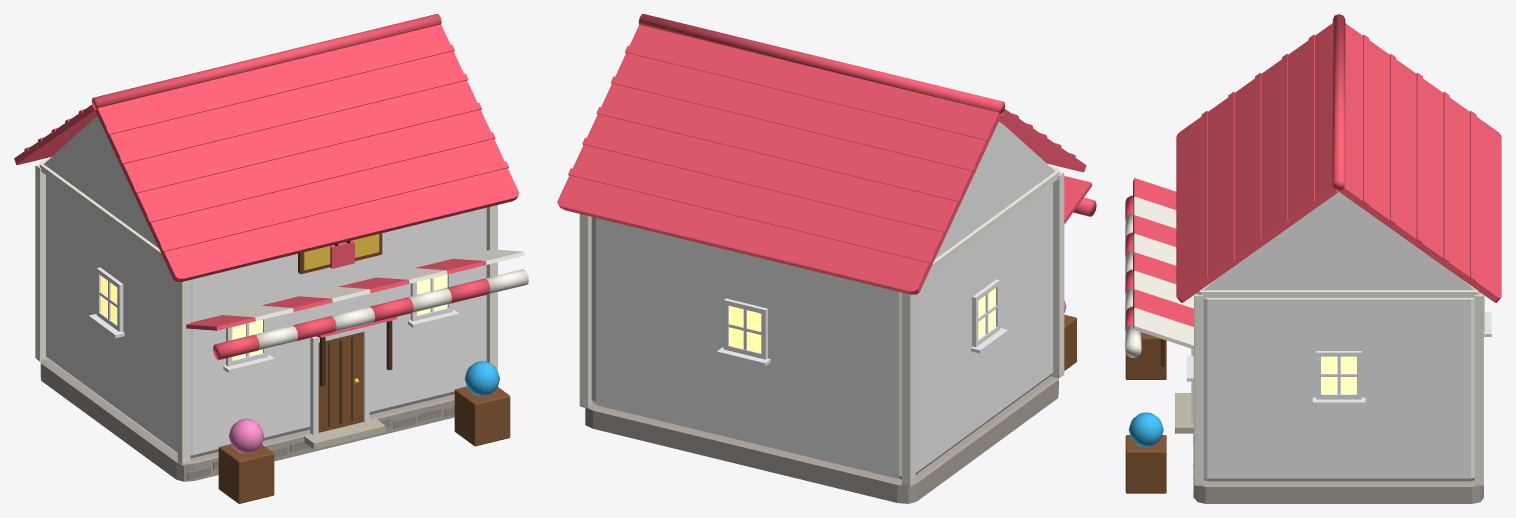
File: obchod.glb
The picture shows the model from 3 angles, left to right: view 1: azimuth 30°, elevation 25°; view 2: azimuth 150°, elevation 25°; view 3: azimuth 270°, elevation 25°; orthographic projection. The views are drawn at different scales.
Parts seen in each view (by area): view 1: obchod; view 2: obchod; view 3: obchod.
Part boxes in pixels (x1,y1,x2,y2): obchod: (14,14,528,503); obchod: (557,14,1096,503); obchod: (1125,14,1501,503).
Bounding box in the file's own units: 6.74 × 6.27 × 6.45.
2 materials, 2 textured.
